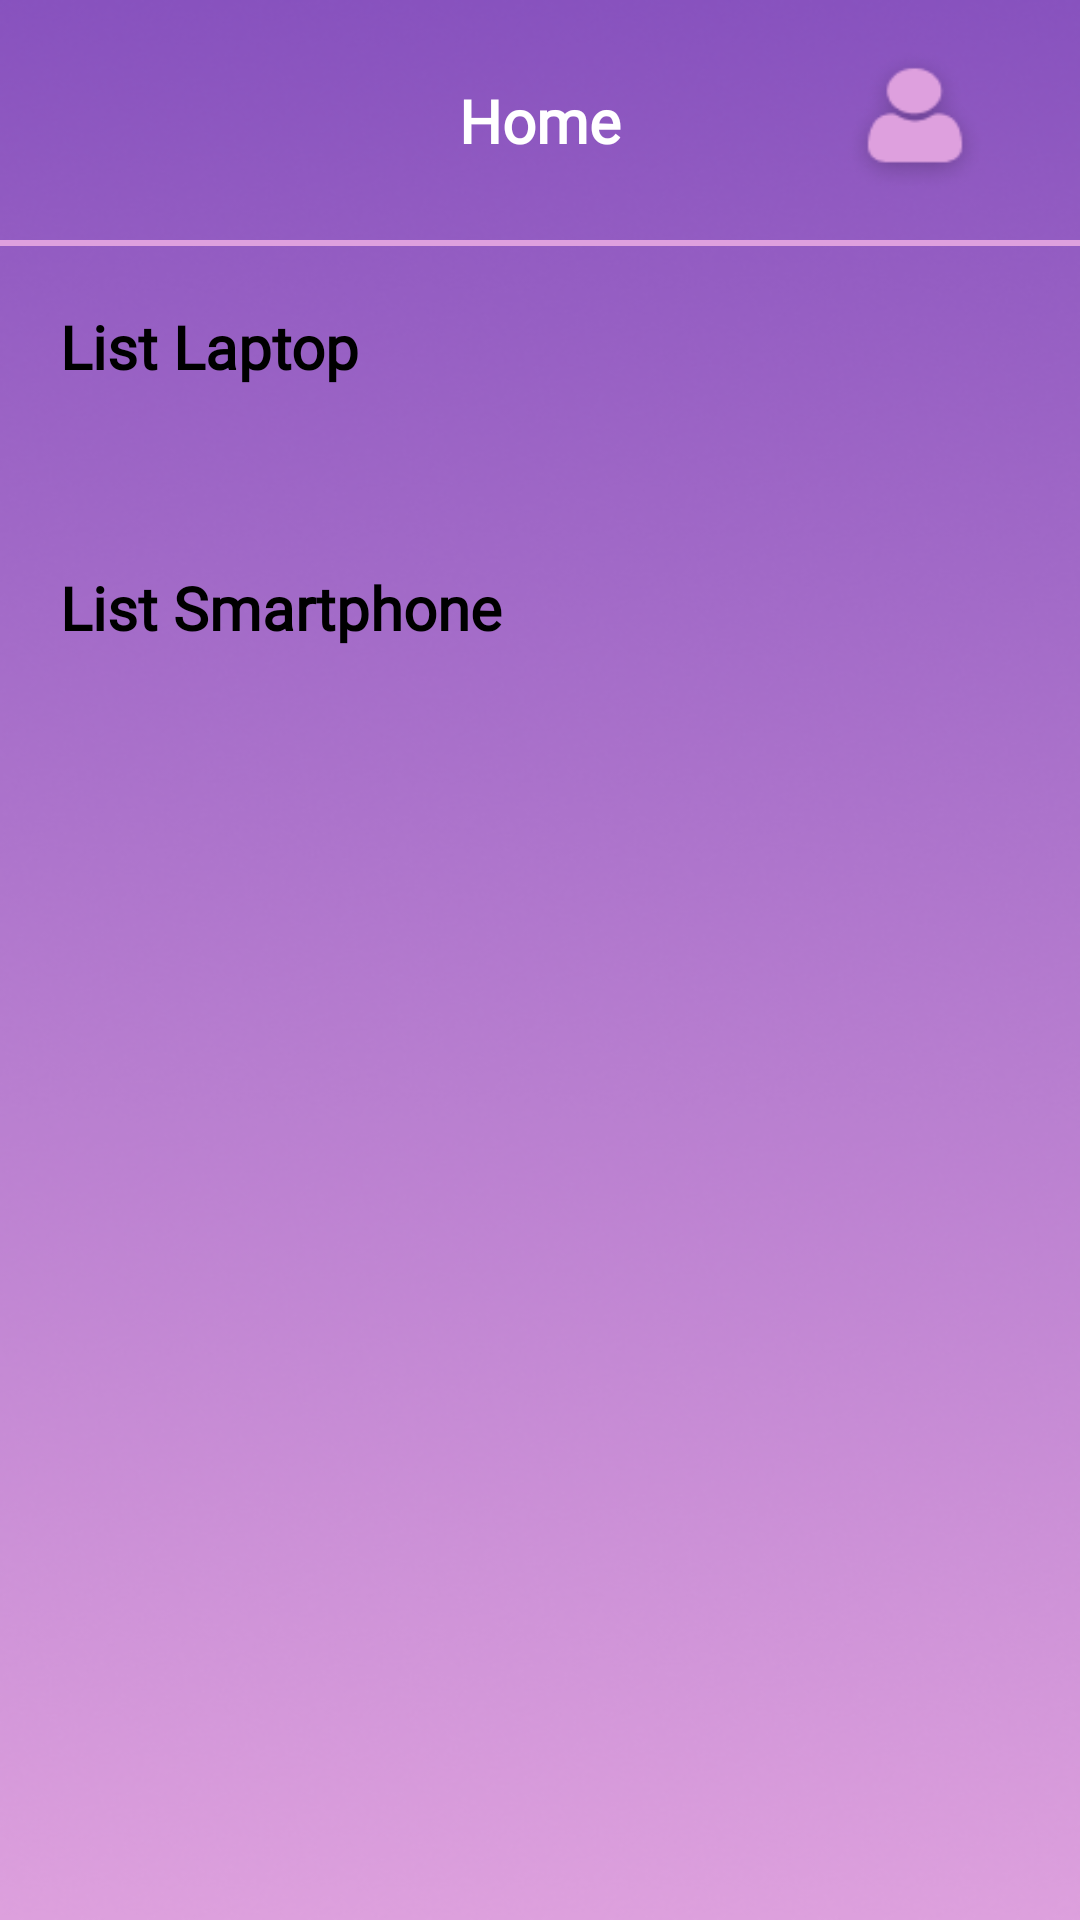

Named icons in this screenshot (1080 x 1920) and their bounding boxes, bbox(x1, y1, x2, y2):
profil: bbox(868, 68, 962, 166)
